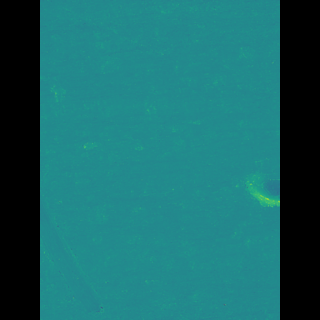Loch: (69, 184, 120, 320), (218, 167, 251, 215)
